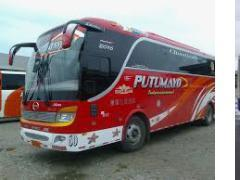bus: (17, 21, 214, 157)
